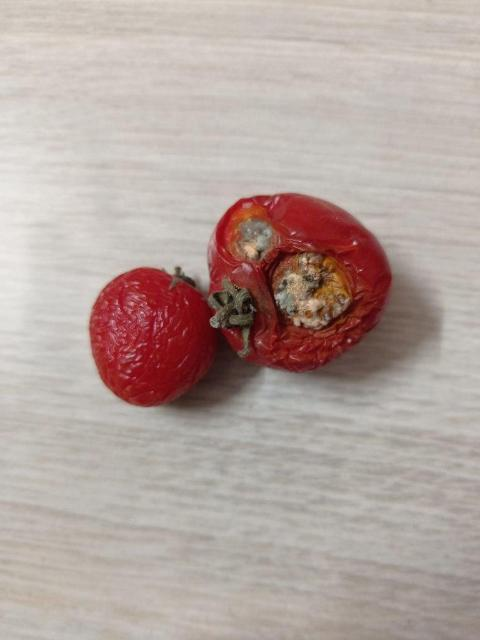defect: (205, 192, 392, 376), (87, 263, 223, 409)
